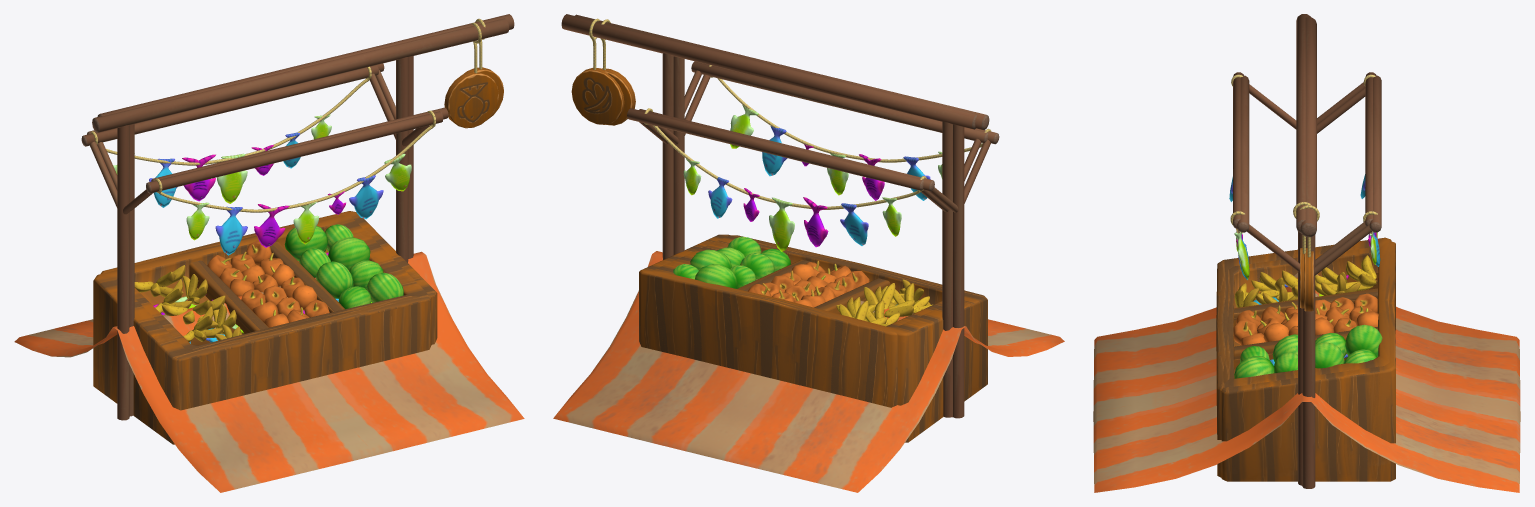
Rendered from Barracas_e_Tenda.fbx.
3 renders of one model, left to right at view 1: azimuth 30°, elevation 25°; view 2: azimuth 150°, elevation 25°; view 3: azimuth 270°, elevation 25°, orthographic. The views are drawn at different scales.
Visible parts, largest first — view 1: Barraca_Peixe, Barraca_Tenda, Barraca_Fruta; view 2: Barraca_Fruta, Barraca_Tenda, Barraca_Peixe; view 3: Barraca_Tenda, Barraca_Fruta, Barraca_Peixe.
Boxes of the visible parts, x1=… form: Barraca_Peixe: x1=81, y1=18, x2=509, y2=444; Barraca_Tenda: x1=14, y1=251, x2=524, y2=492; Barraca_Fruta: x1=87, y1=14, x2=514, y2=416; Barraca_Fruta: x1=561, y1=14, x2=988, y2=417; Barraca_Tenda: x1=553, y1=251, x2=1064, y2=492; Barraca_Peixe: x1=575, y1=14, x2=999, y2=442; Barraca_Tenda: x1=1093, y1=273, x2=1520, y2=492; Barraca_Fruta: x1=1221, y1=17, x2=1395, y2=488; Barraca_Peixe: x1=1216, y1=14, x2=1391, y2=485.
Size of the model in its own units: 407 by 287 by 349.
